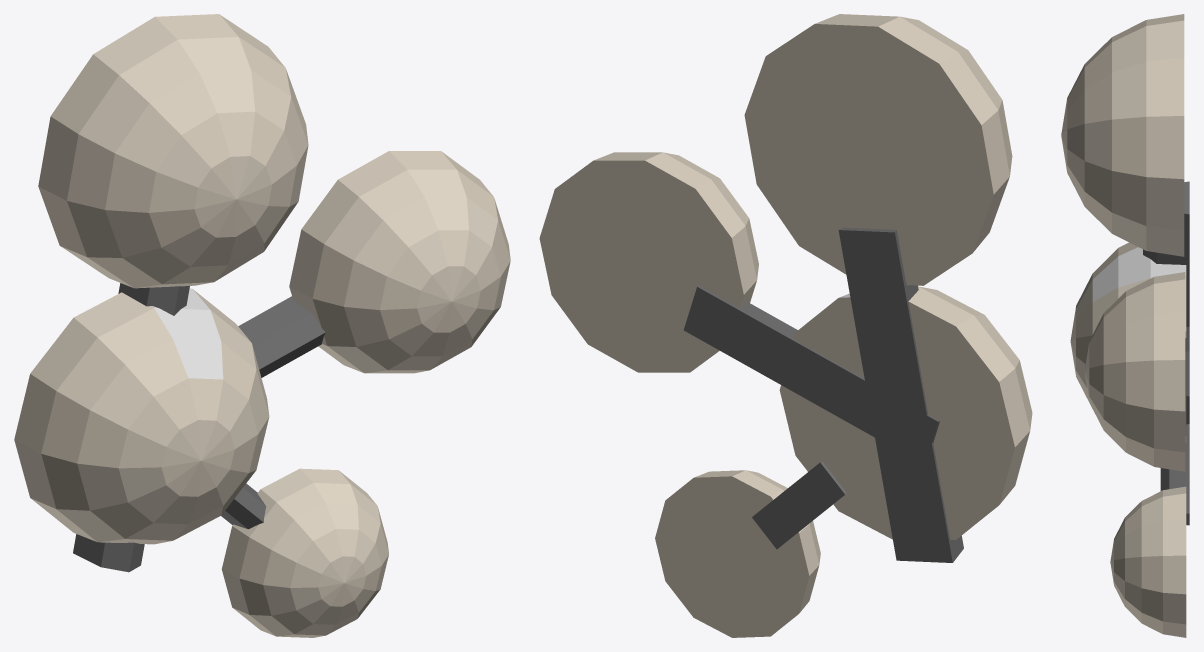
File: Colony.obj
The picture shows the model from 3 angles, left to right: view 1: azimuth 30°, elevation 25°; view 2: azimuth 150°, elevation 25°; view 3: azimuth 270°, elevation 25°; orthographic projection. The views are drawn at different scales.
Parts seen in each view (by area): view 1: Object.6, Object.1, Object.4, Object.2, Object.5, Object.7, Object.3; view 2: Object.6, Object.4, Object.1, Object.7, Object.2, Object.5, Object.3; view 3: Object.6, Object.4, Object.2, Object.1, Object.7, Object.3, Object.5.
Part boxes in pixels (<box>): Object.6: <box>38,14,308,288</box>; Object.1: <box>14,288,269,544</box>; Object.4: <box>289,151,510,373</box>; Object.2: <box>221,468,388,637</box>; Object.5: <box>238,296,325,377</box>; Object.7: <box>73,283,189,572</box>; Object.3: <box>221,483,266,529</box>; Object.6: <box>744,14,1012,285</box>; Object.4: <box>539,152,758,372</box>; Object.1: <box>779,286,1032,539</box>; Object.7: <box>838,227,963,562</box>; Object.2: <box>655,470,820,637</box>; Object.5: <box>684,286,939,442</box>; Object.3: <box>752,461,846,549</box>; Object.6: <box>1061,14,1184,256</box>; Object.4: <box>1084,272,1185,471</box>; Object.2: <box>1110,486,1186,637</box>; Object.1: <box>1070,242,1186,442</box>; Object.7: <box>1143,181,1189,424</box>; Object.3: <box>1160,424,1189,525</box>; Object.5: <box>1185,326,1189,396</box>.
Bounding box in the file's own units: 47.37 × 61.37 × 13.
